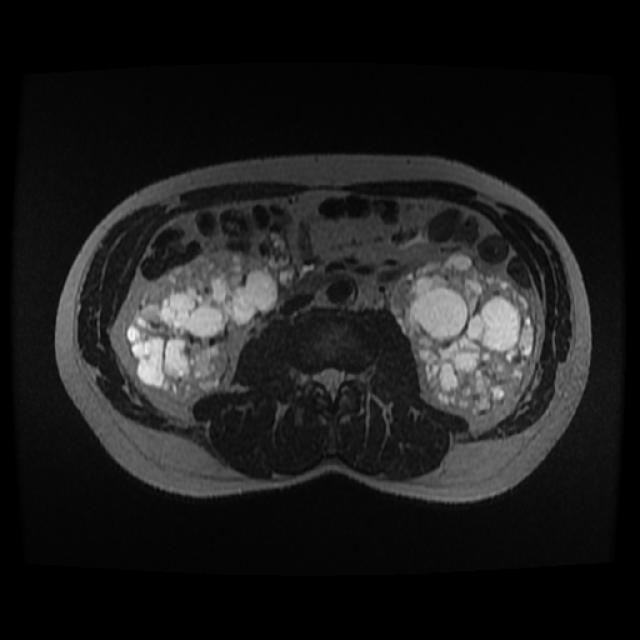sag: (125, 250, 280, 408)
sol: (389, 252, 537, 416)
